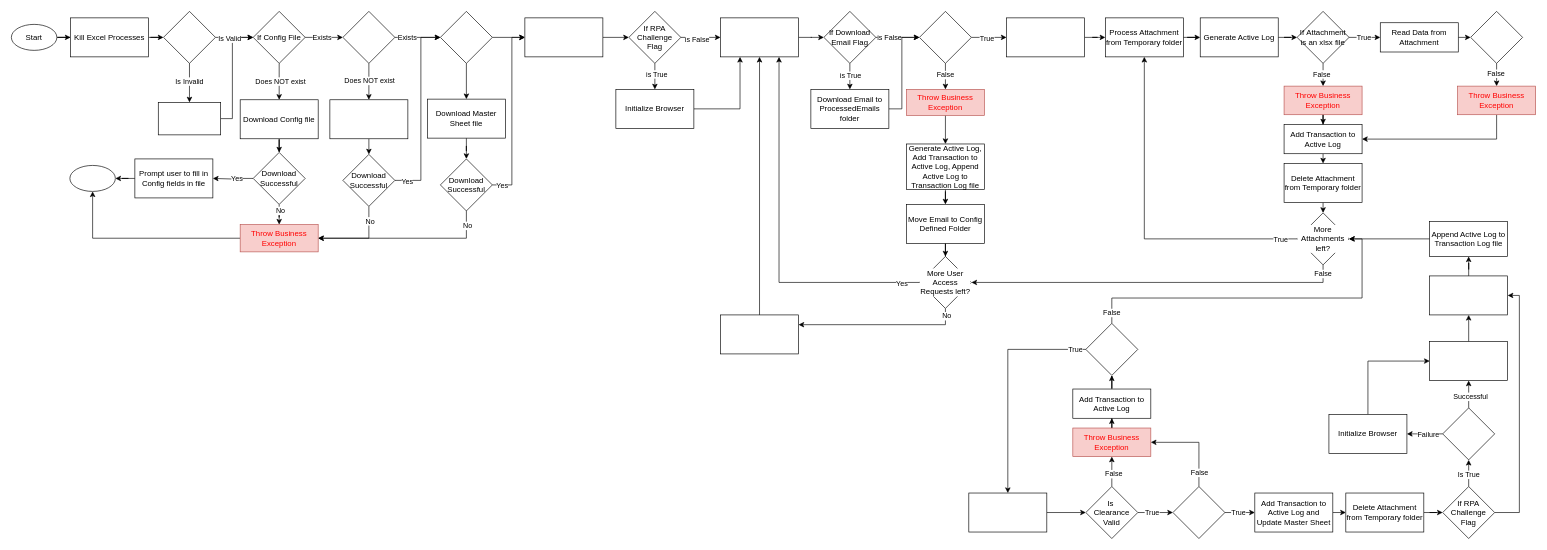
This 1547x550 diagram has some shape labels left out. Each missing label, with the centre of its shape:
Create Missing Folders: (189,118)
Download Transaction Log file: (368,119)
Email has attachments: (945,37)
End: (92,178)
Enter Values into RPA Challenge Website: (1468,361)
Extract Settings from Config file into a Dictionary: (563,37)
Header Format is Valid: (1496,37)
If Folder Structure: (189,37)
If Master Sheet: (466,37)
If Transaction Log: (368,37)
Is Request Valid?: (1198,512)
More Data Rows left?: (1111,349)
Move Email from Inbox to Config-defined folder: (1468,295)
Process Data Row: (1007,512)
Read a User Access Request in Inbox: (759,37)
Refresh Browser: (1468,433)
Save Attachments to Temporary folder: (1045,37)
Wait for new User Access Request: (759,334)
